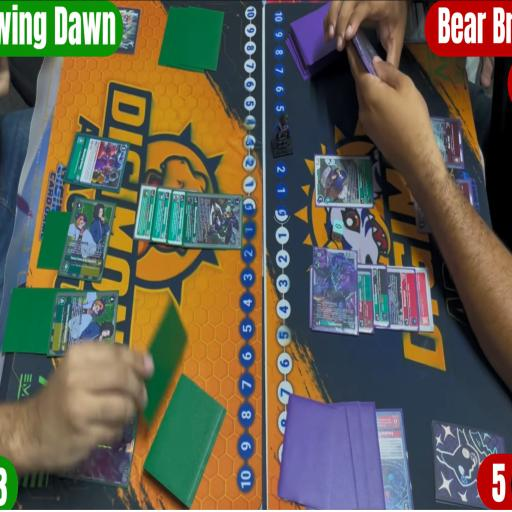card: (58, 398, 139, 489), (59, 195, 117, 284), (48, 291, 119, 355), (311, 246, 359, 338), (63, 130, 130, 194), (374, 406, 408, 512), (183, 192, 242, 250), (415, 176, 474, 232), (314, 155, 374, 208), (412, 118, 463, 172), (356, 263, 392, 328), (387, 266, 420, 330), (166, 189, 192, 249), (399, 0, 430, 46), (149, 186, 173, 244), (415, 266, 436, 332), (134, 184, 158, 241), (356, 271, 375, 332)
